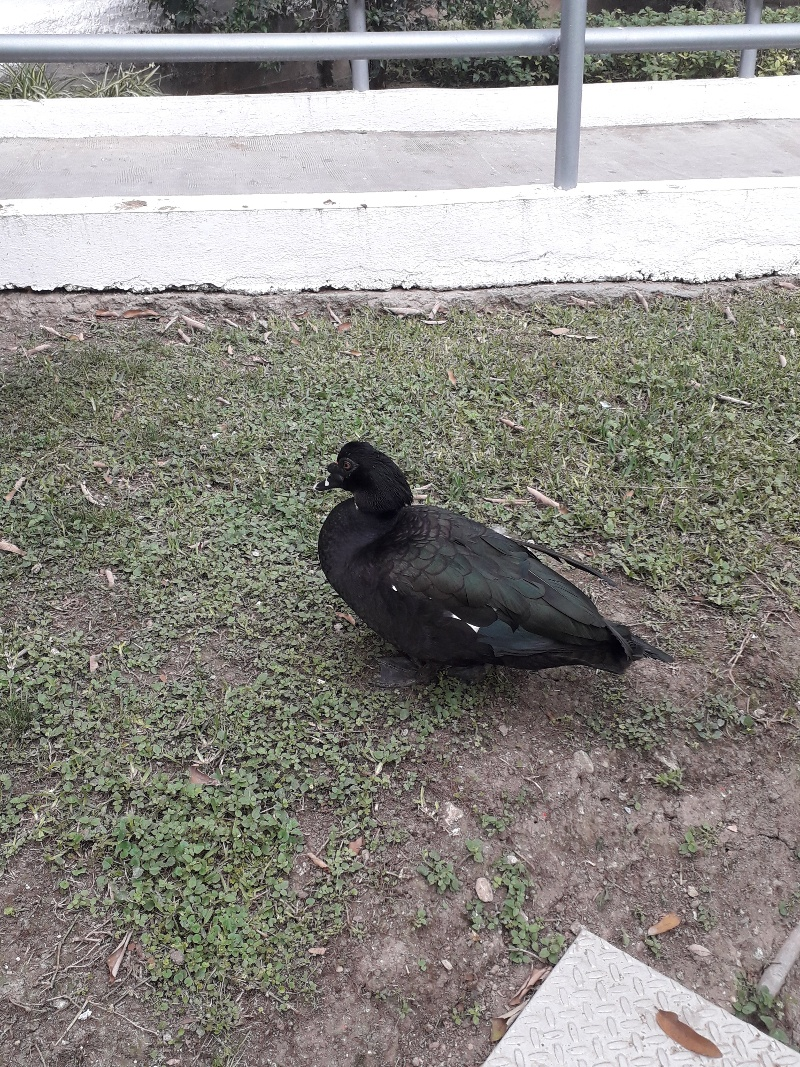pato: (314, 441, 617, 684)
